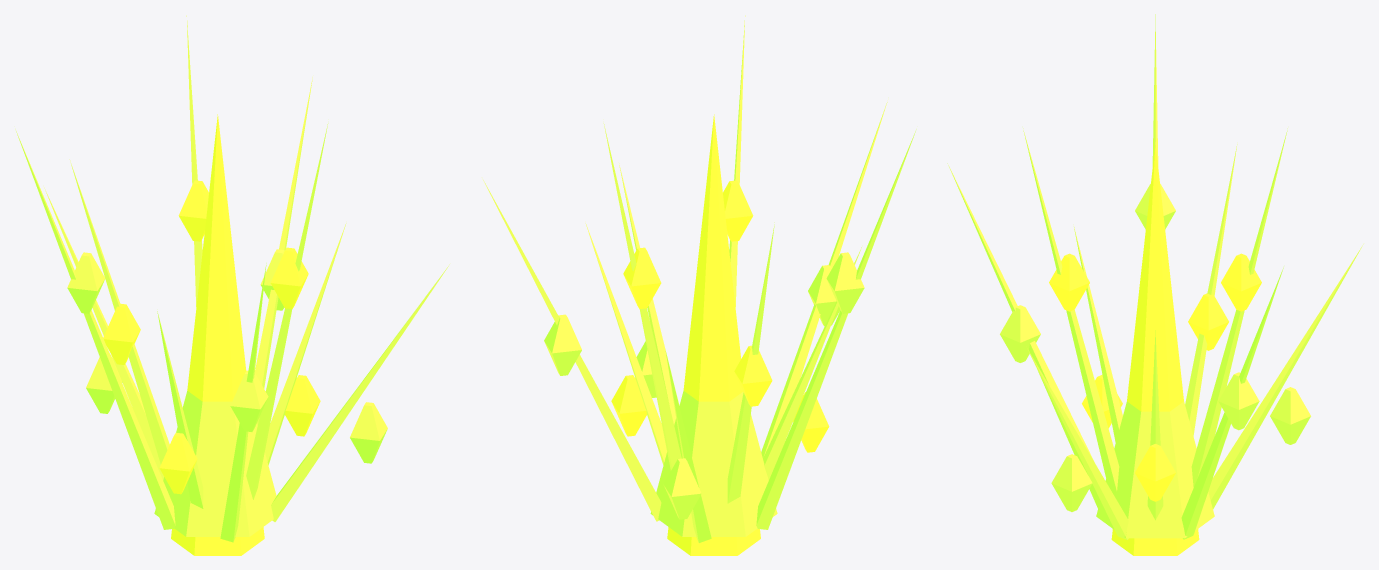
The model's file is vfx_mutant_arachnid_maw.glb.
3 views of the same model, side by side, from view 1: azimuth 30°, elevation 25°; view 2: azimuth 150°, elevation 25°; view 3: azimuth 270°, elevation 25° (orthographic). The views are drawn at different scales.
Parts seen in each view (by area): view 1: VFX_Mutant_Arachnid; view 2: VFX_Mutant_Arachnid; view 3: VFX_Mutant_Arachnid.
Boxes of the visible parts, x1,y1,x2,y2 form: VFX_Mutant_Arachnid: [15, 15, 449, 555]; VFX_Mutant_Arachnid: [483, 15, 916, 555]; VFX_Mutant_Arachnid: [947, 14, 1363, 555].
Bounding box in the file's own units: 0.6169 × 0.74 × 0.6486.
